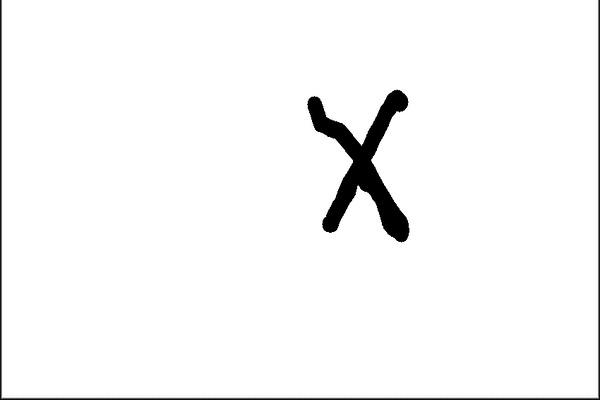X: (282, 72, 417, 251)
